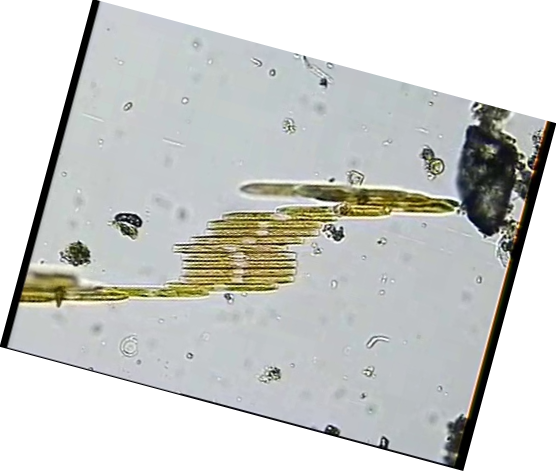Bacillaria: (177, 277, 301, 284), (173, 269, 297, 276), (173, 259, 297, 266), (171, 251, 295, 258), (169, 238, 293, 245), (195, 228, 319, 235), (198, 217, 322, 224), (214, 209, 338, 216)
